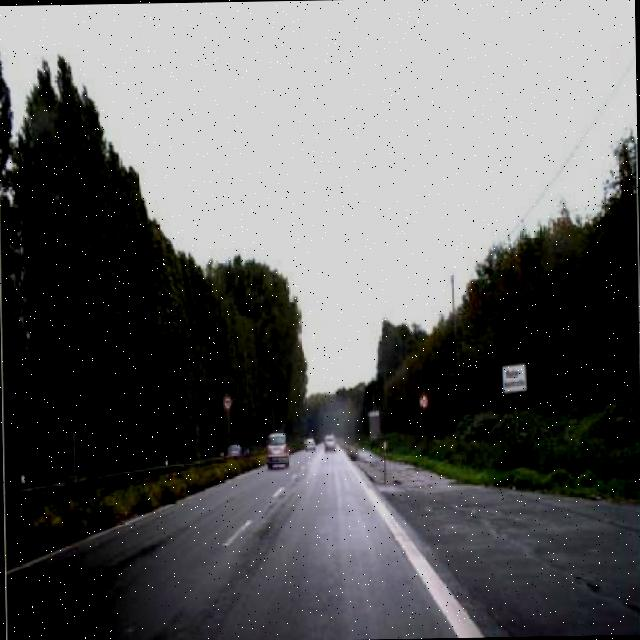Ograniczenie predkosci do 70: (221, 393, 234, 413), (416, 392, 429, 411)
